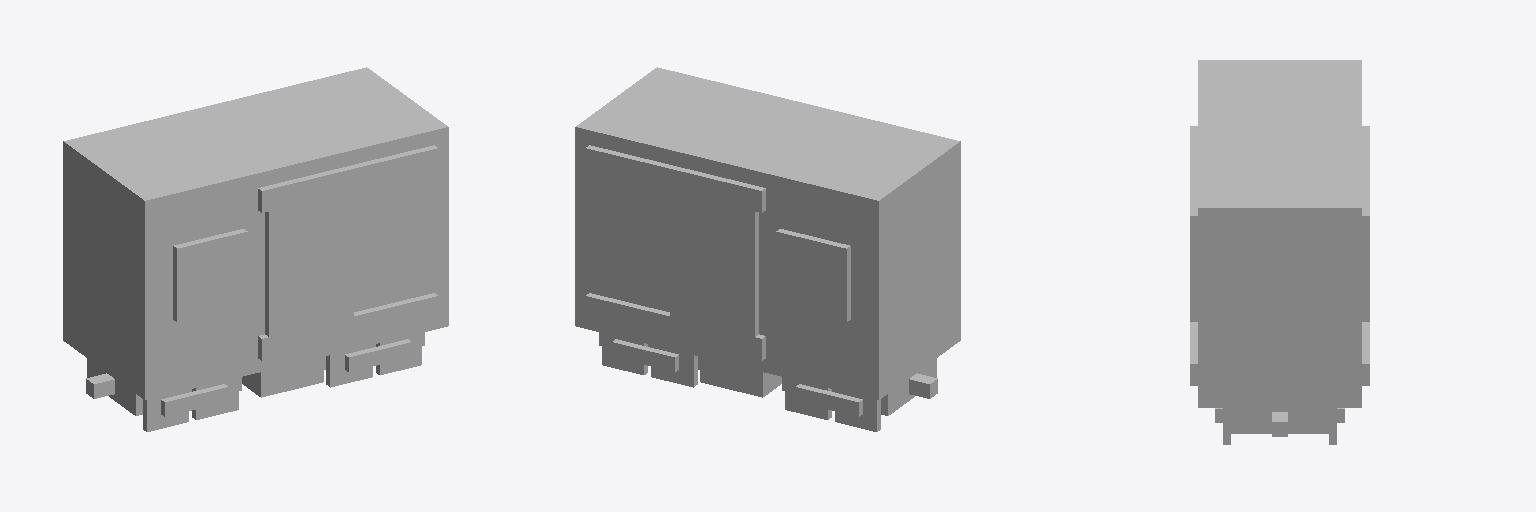
File: ModelWagon.obj
3 views of the same model, side by side, from view 1: azimuth 30°, elevation 25°; view 2: azimuth 150°, elevation 25°; view 3: azimuth 270°, elevation 25° (orthographic).
Parts seen in each view (by area): view 1: box10, box12, box13, box9, box22, box, box17, box18, box6, box3, box15, box2 (+2 smaller); view 2: box10, box11, box28, box20, box14, box, box16, box19, box5, box0, box15, box1 (+2 smaller); view 3: box10, box8, box9, box20, box12, box11.
Part boxes in pixels (x1,y1,x2,y2): box10: (63,67,448,399); box12: (265,191,353,336); box13: (173,229,247,322); box9: (258,145,438,212); box22: (258,293,438,360); box: (242,357,323,397); box17: (161,384,228,416); box18: (345,339,411,371); box6: (326,345,372,387); box3: (143,390,188,431); box15: (87,358,241,415); box2: (192,378,238,419); box10: (575,67,960,399); box11: (670,191,758,336); box28: (776,229,850,322); box20: (585,145,765,212); box14: (585,293,765,360); box: (700,357,781,397); box16: (795,384,862,416); box19: (612,339,678,371); box5: (651,345,697,387); box0: (835,390,880,431); box15: (782,358,936,415); box1: (785,378,831,419); box10: (1198,60,1361,407); box8: (1231,408,1328,433); box9: (1190,130,1197,237); box20: (1362,130,1369,237); box12: (1190,238,1197,321); box11: (1362,238,1369,321).
Bounding box in the file's own units: 2.94 × 2.06 × 1.38.